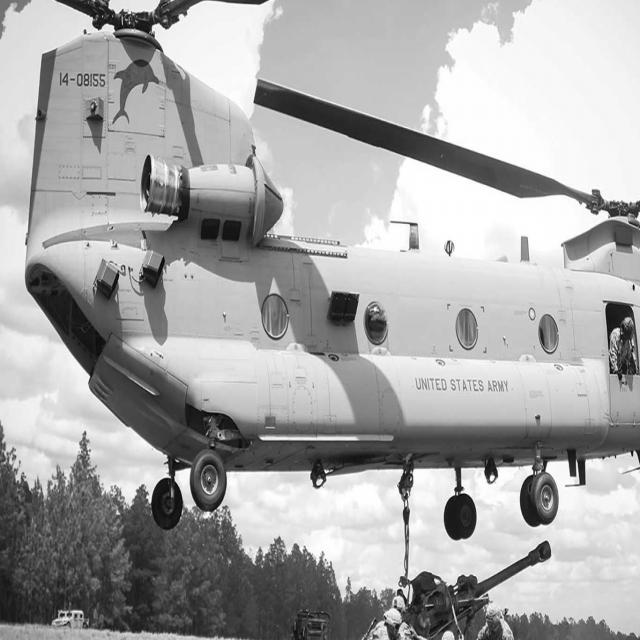helicopter: (1, 1, 640, 550)
